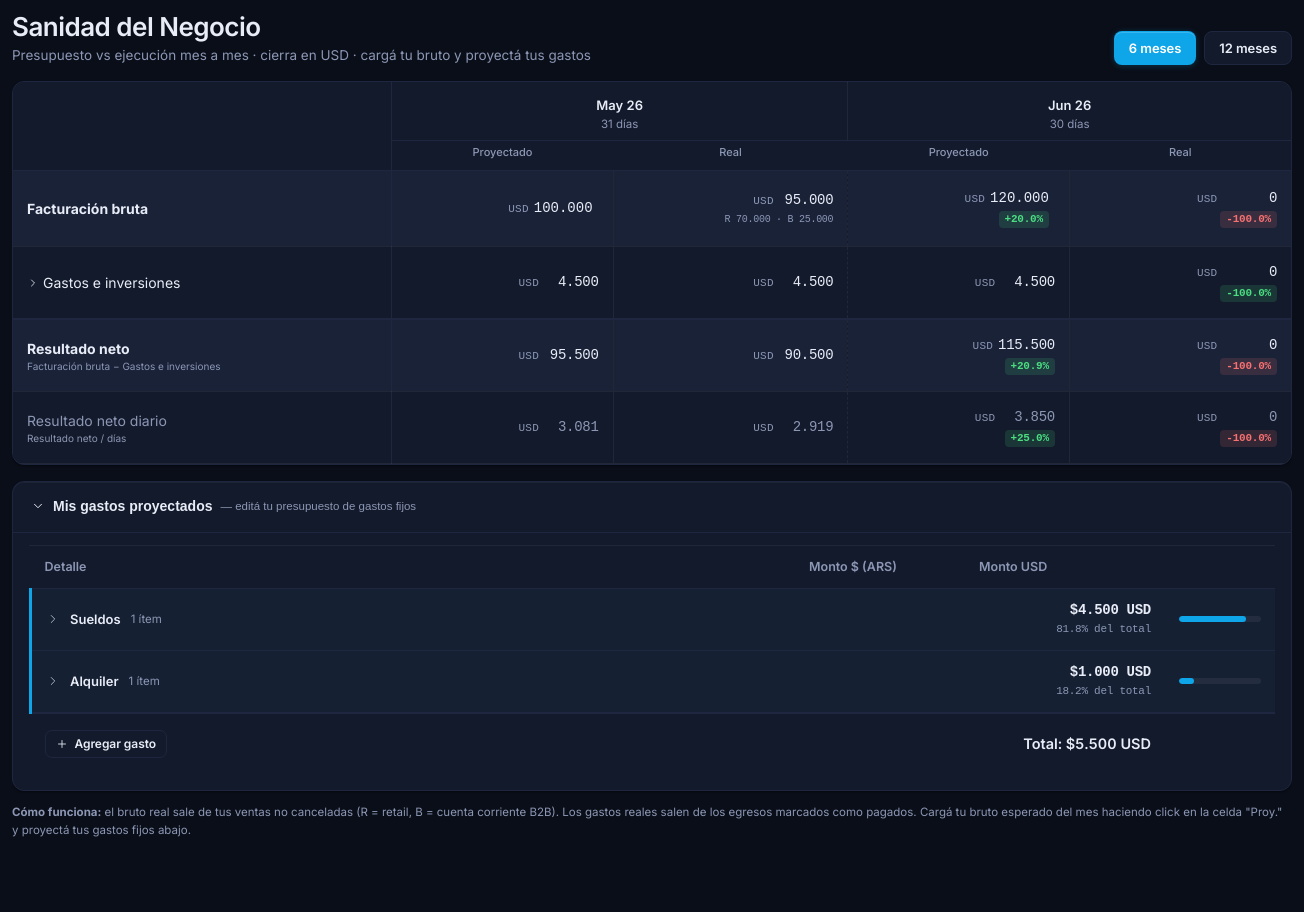
Scenario: Pantalla Sanidad del Negocio › click en el header del grupo "Sueldos" expande los ítems hijos
Check: the text "Sueldos" is shown, box [70,610,121,628]
Check: the cell "Sueldo Test" is not shown
// Click en el header del grupo Sueldos.
Click the text "Sueldos" at (653, 619), box [30,588,1275,650]
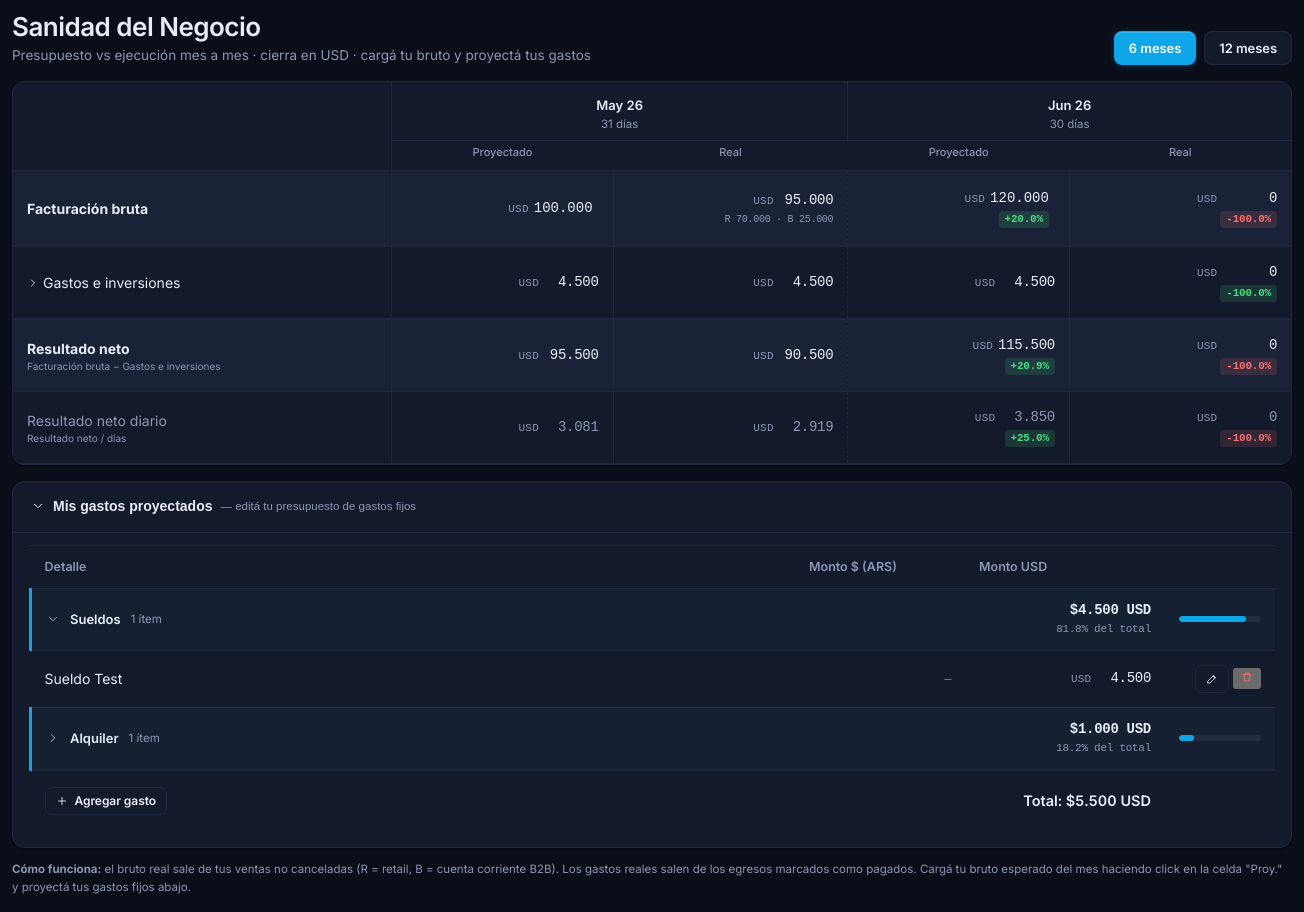
Check: the text "Sueldo Test" is shown, box [30,650,795,707]
